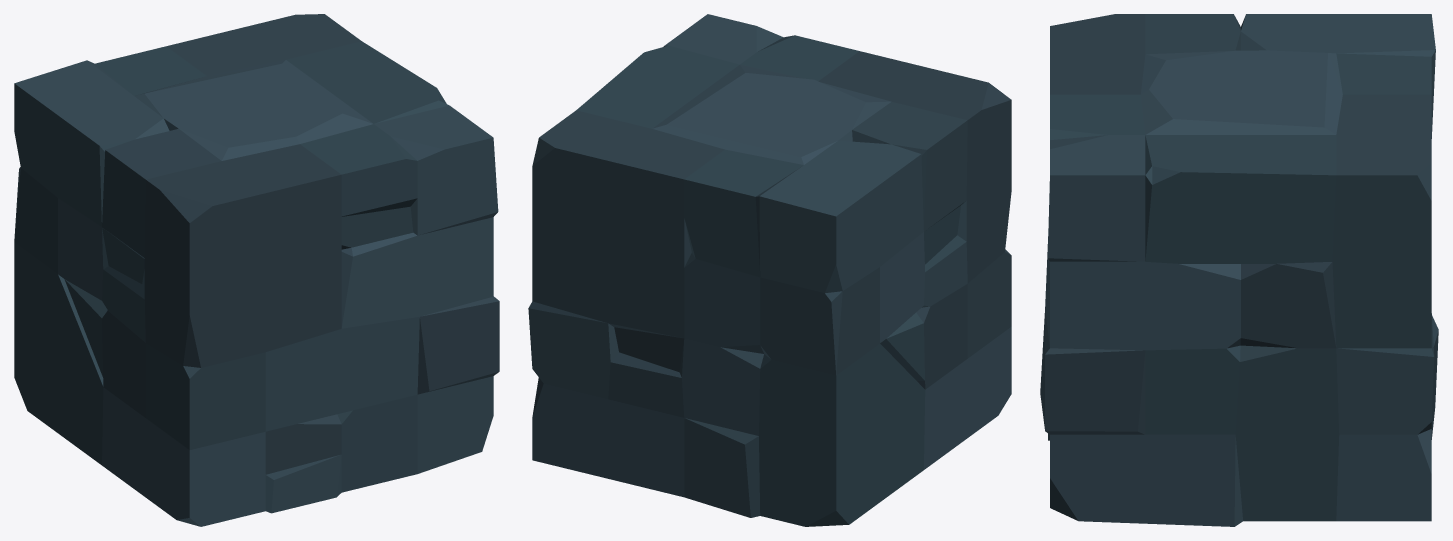
Rendered from level_element_4x4x4.fbx.
3 renders of one model, left to right at view 1: azimuth 30°, elevation 25°; view 2: azimuth 150°, elevation 25°; view 3: azimuth 270°, elevation 25°, orthographic. The views are drawn at different scales.
Visible parts, largest first — view 1: level_element_4x4x4; view 2: level_element_4x4x4; view 3: level_element_4x4x4.
Boxes of the visible parts, box(x1,y1,x2,y2) form: level_element_4x4x4: box(14, 14, 499, 526); level_element_4x4x4: box(528, 14, 1011, 526); level_element_4x4x4: box(1040, 14, 1438, 526).
Bounding box in the file's own units: 410 × 412 × 418.
